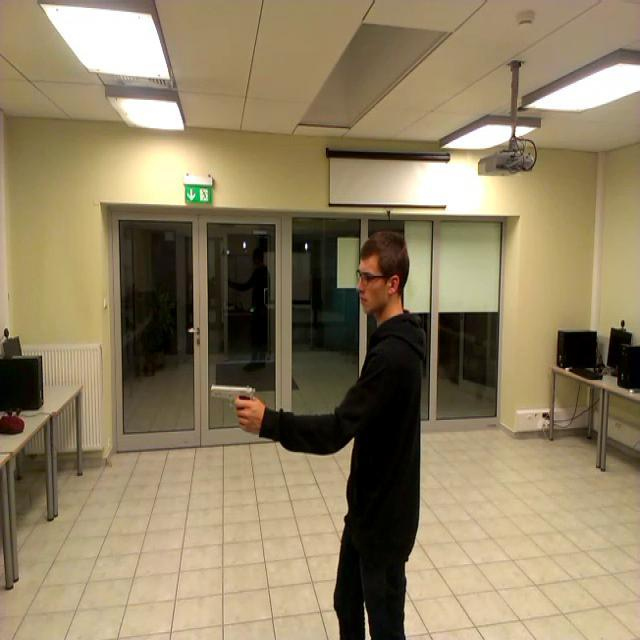Gun: (212, 384, 256, 426)
